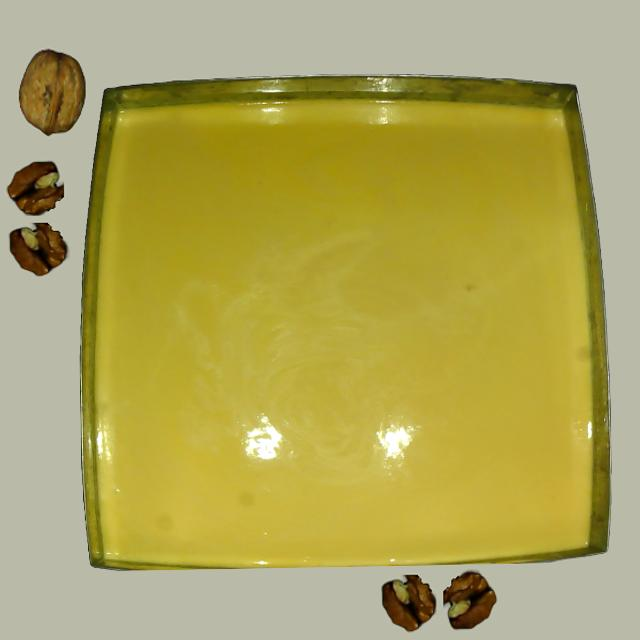Walnut: (18, 48, 85, 136)
